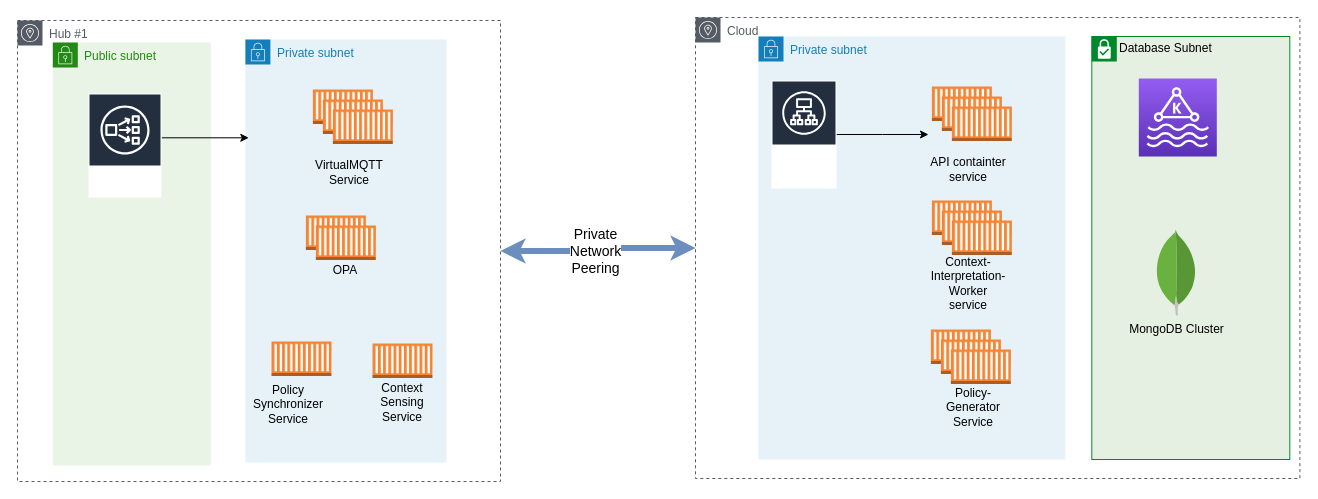
The diagram is 1318 pixels wide and 499 high, and some of its shapes have lost their labels. Each missing label, with the centre of its shape:
"Application Load Balancer" goes at [803,134].
"Kafka Cluster" goes at [1177,117].
"Network Load Balancer" goes at [125,145].
